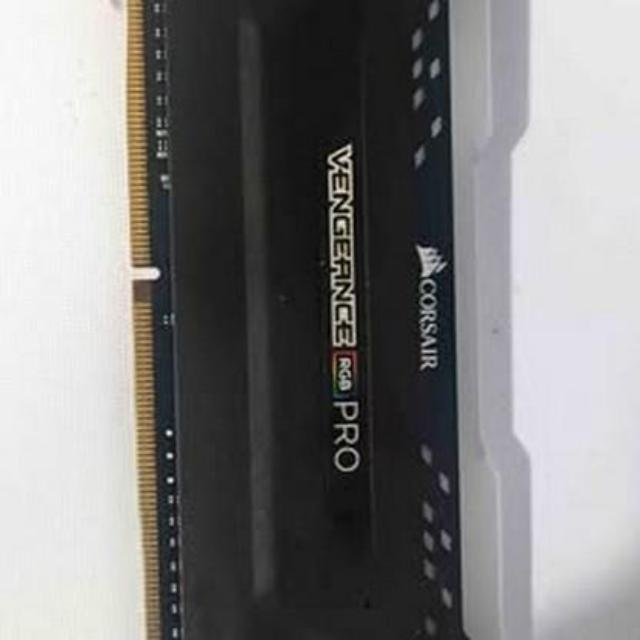RAM: (114, 0, 540, 640)
